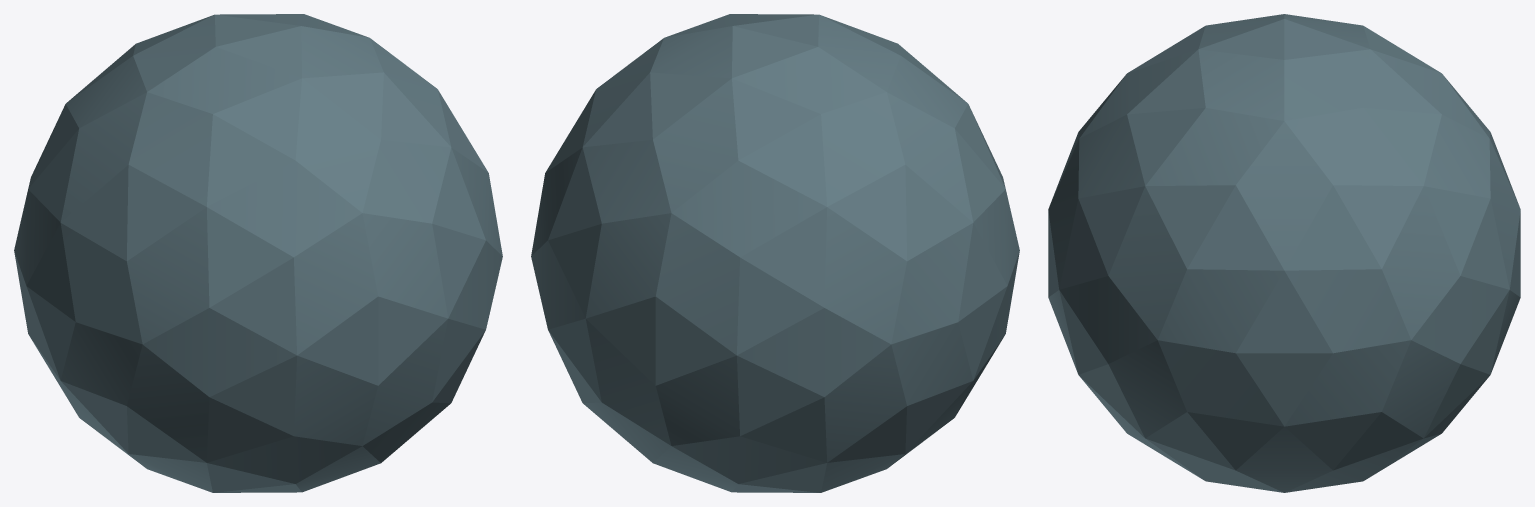
3 renders of one model, left to right at view 1: azimuth 30°, elevation 25°; view 2: azimuth 150°, elevation 25°; view 3: azimuth 270°, elevation 25°, orthographic.
Parts seen in each view (by area): view 1: Sphere; view 2: Sphere; view 3: Sphere.
Boxes of the visible parts, x1,y1,x2,y2 form: Sphere: [14, 14, 502, 492]; Sphere: [531, 14, 1019, 492]; Sphere: [1048, 14, 1520, 492].
Bounding box in the file's own units: 1.96 × 1.96 × 1.96.
